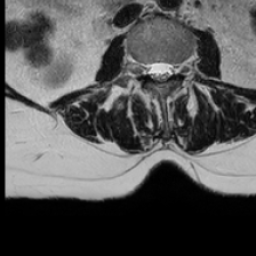CCS_normal: (155, 53, 164, 93)
LFS_normal: (173, 53, 183, 84)
LLS_normal: (164, 52, 173, 86)
RFS_normal: (136, 52, 146, 82)
RLS_normal: (146, 55, 155, 85)
